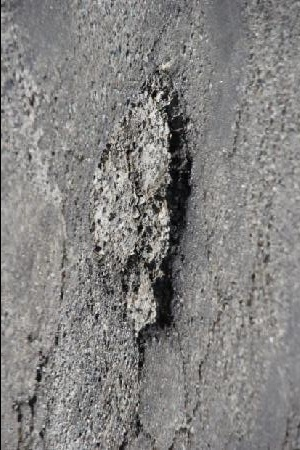pothole: (86, 66, 196, 351)
